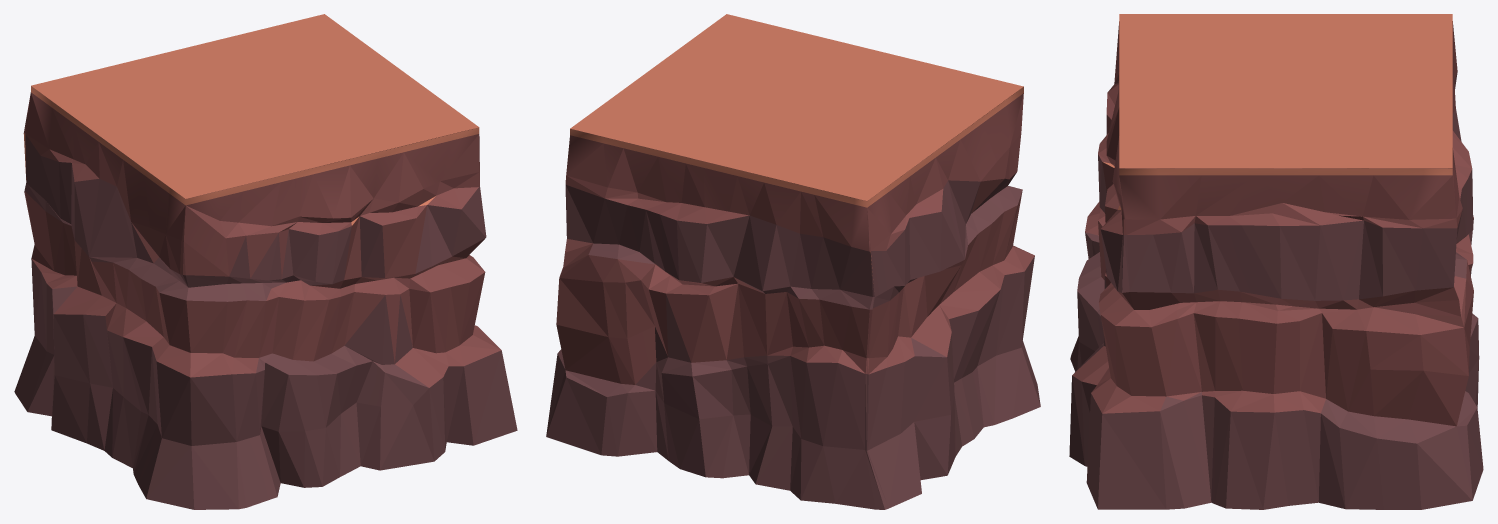
File: Canyon_Pillar3.fbx
3 renders of one model, left to right at view 1: azimuth 30°, elevation 25°; view 2: azimuth 150°, elevation 25°; view 3: azimuth 270°, elevation 25°, orthographic. The views are drawn at different scales.
Parts seen in each view (by area): view 1: Mesh; view 2: Mesh; view 3: Mesh.
Boxes of the visible parts, x1=… form: Mesh: x1=14, y1=14, x2=517, y2=509; Mesh: x1=546, y1=14, x2=1040, y2=509; Mesh: x1=1069, y1=14, x2=1483, y2=509.
Bounding box in the file's own units: 1652 × 1347 × 1549.
